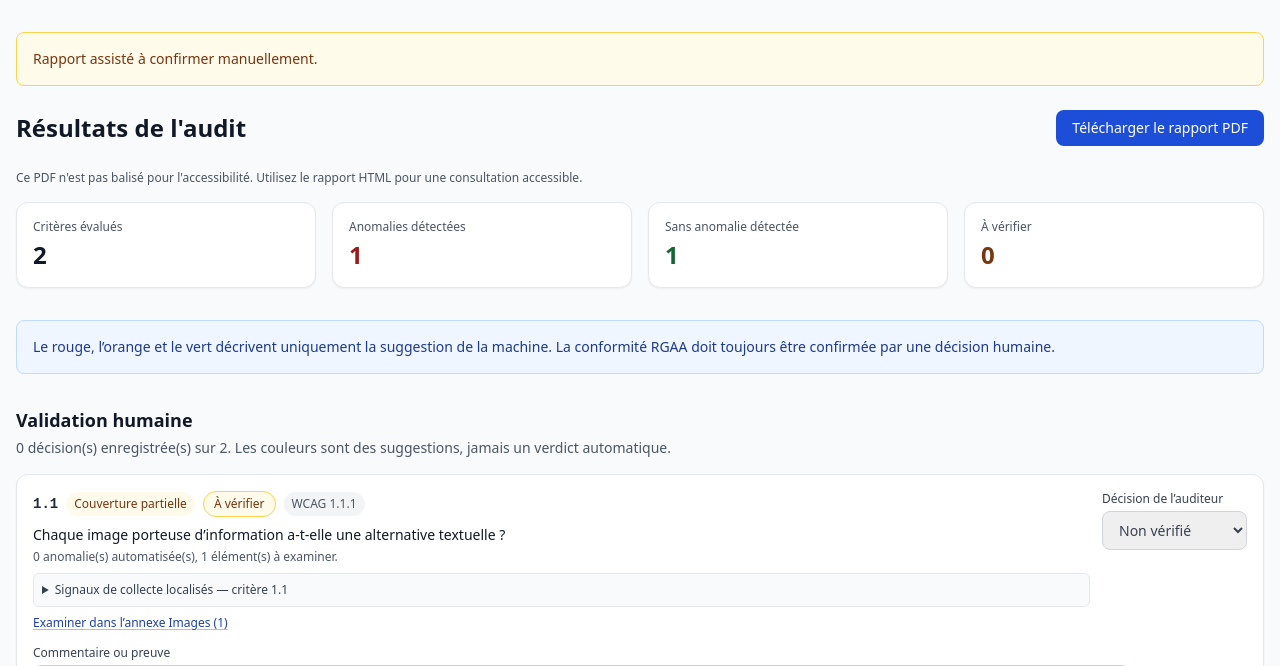
Test case: navigation entre un critère et son annexe › ouvre l’annexe Images et limite la liste aux éléments du critère
What coordinates should you click on to do the following:
click the button "Examiner dans l’annexe Images (1)"
I would click on:
 (130, 623)
Its box is [33, 615, 228, 631].
(page scrolled)
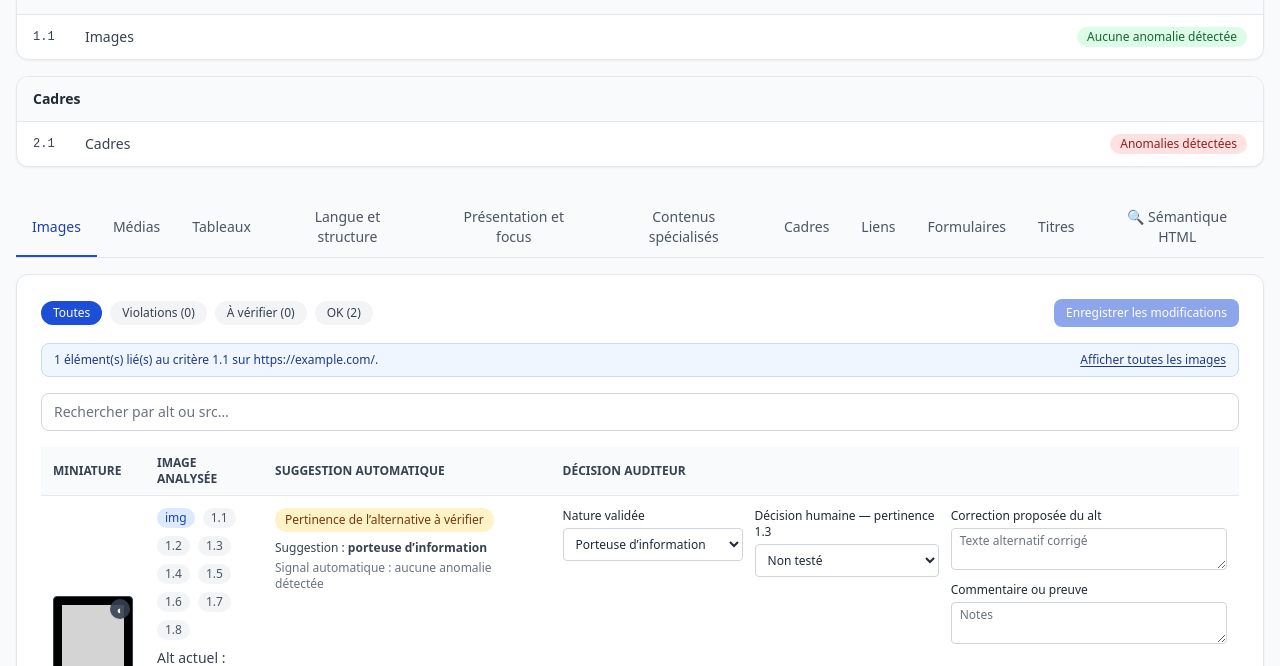
Expected: the text "1 élément(s) lié(s) au critère 1.1 sur https://example.com/." is shown, [54, 352, 378, 368]
